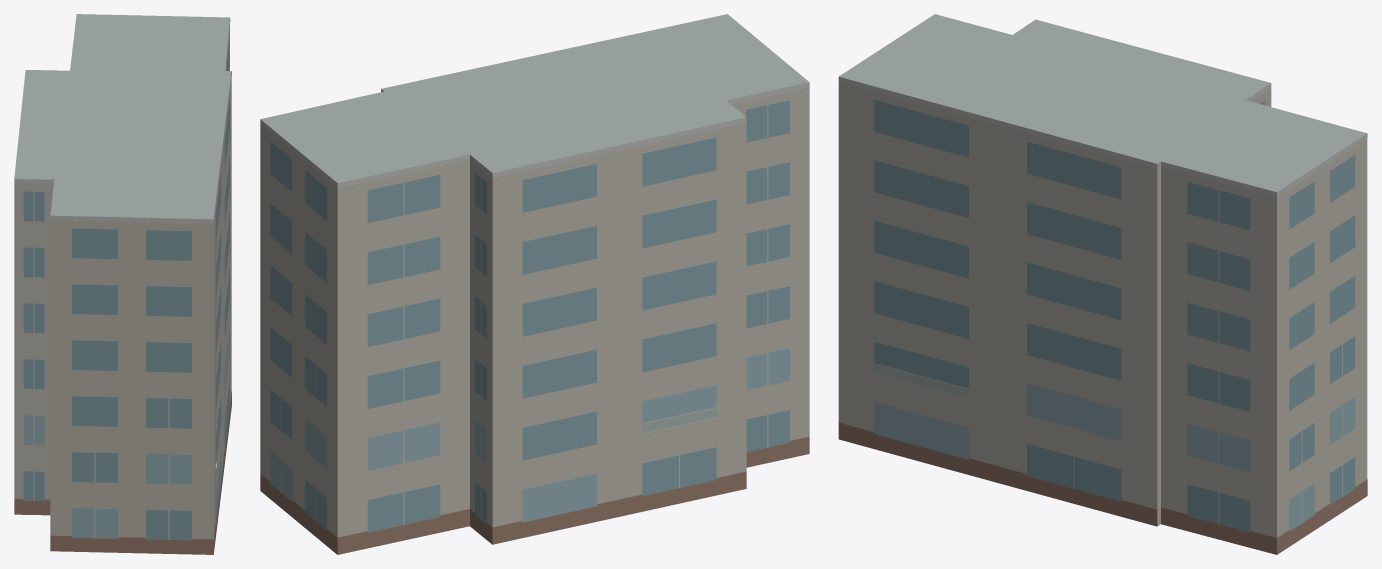
The model's file is survey-upis-32875431.glb.
3 renders of one model, left to right at view 1: azimuth 30°, elevation 25°; view 2: azimuth 150°, elevation 25°; view 3: azimuth 270°, elevation 25°, orthographic. The views are drawn at different scales.
Parts seen in each view (by area): view 1: survey-upis-32875431.tmp; view 2: survey-upis-32875431.tmp; view 3: survey-upis-32875431.tmp.
Boxes of the visible parts, left/top/right/bottom form: survey-upis-32875431.tmp: left=14, top=14, right=231, bottom=554; survey-upis-32875431.tmp: left=260, top=14, right=809, bottom=554; survey-upis-32875431.tmp: left=838, top=14, right=1367, bottom=554.
Bounding box in the file's own units: 17.94 × 17.02 × 22.5.
